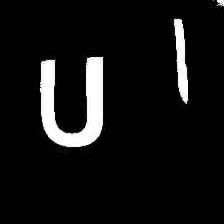LTR_U: (31, 49, 109, 153)
